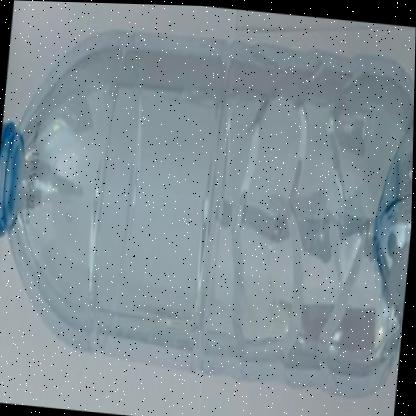open bottle: (1, 1, 148, 388)
